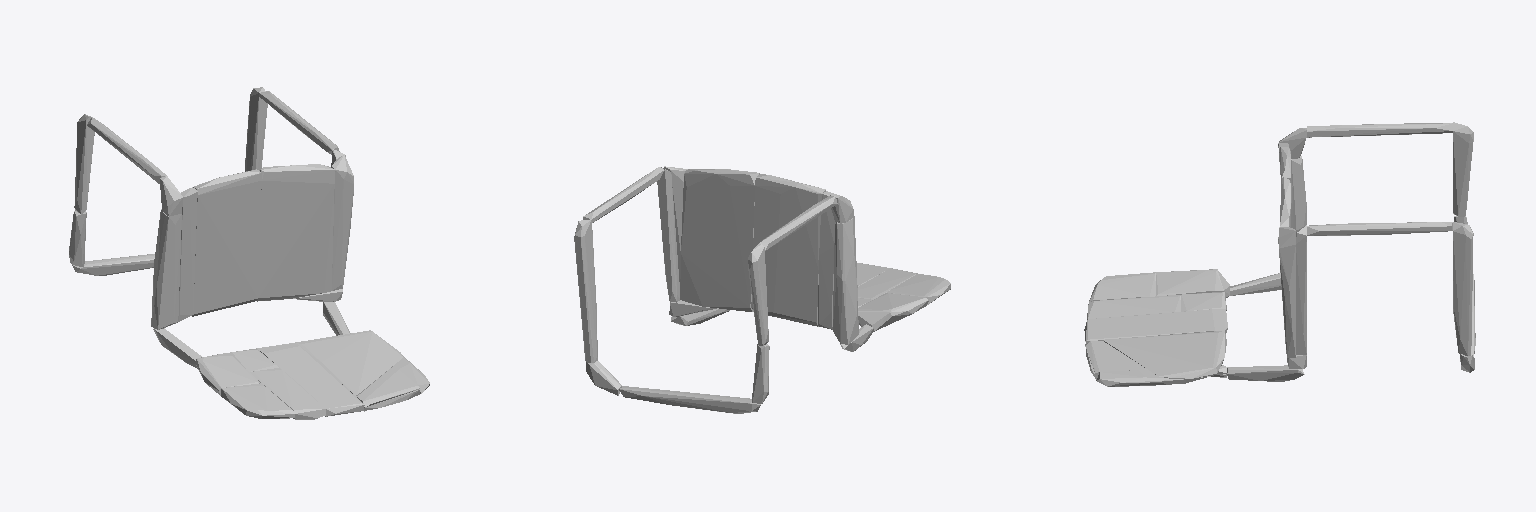
The picture shows the model from 3 angles: view 1: azimuth 30°, elevation 25°; view 2: azimuth 150°, elevation 25°; view 3: azimuth 270°, elevation 25°; orthographic projection.
Visible parts, largest first — view 1: convex_17, convex_16, convex_20, convex_6, convex_12, convex_19, convex_4, convex_21, convex_25, convex_15, convex_11, convex_14 (+9 smaller); view 2: convex_17, convex_16, convex_12, convex_14, convex_0, convex_4, convex_18, convex_15, convex_11, convex_21, convex_5, convex_3 (+4 smaller); view 3: convex_20, convex_6, convex_14, convex_19, convex_15, convex_3, convex_5, convex_25, convex_11, convex_21, convex_18, convex_27 (+6 smaller).
Part boxes in pixels (bbox=[...]): convex_17: bbox=[257, 164, 335, 301]; convex_16: bbox=[192, 169, 261, 316]; convex_20: bbox=[295, 330, 402, 395]; convex_6: bbox=[257, 343, 364, 416]; convex_12: bbox=[151, 209, 181, 329]; convex_19: bbox=[331, 155, 353, 290]; convex_4: bbox=[178, 187, 197, 321]; convex_21: bbox=[221, 383, 294, 418]; convex_25: bbox=[250, 368, 325, 419]; convex_15: bbox=[196, 353, 259, 395]; convex_11: bbox=[74, 114, 94, 214]; convex_14: bbox=[245, 87, 267, 171]; convex_17: bbox=[680, 169, 759, 311]; convex_16: bbox=[751, 174, 825, 326]; convex_12: bbox=[833, 217, 858, 344]; convex_14: bbox=[574, 219, 597, 362]; convex_0: bbox=[619, 386, 760, 413]; convex_4: bbox=[818, 191, 839, 329]; convex_18: bbox=[657, 167, 679, 302]; convex_15: bbox=[858, 293, 928, 331]; convex_11: bbox=[748, 243, 768, 345]; convex_21: bbox=[887, 274, 950, 304]; convex_5: bbox=[583, 167, 664, 222]; convex_3: bbox=[760, 196, 837, 250]; convex_20: bbox=[1104, 331, 1226, 378]; convex_6: bbox=[1084, 309, 1227, 343]; convex_14: bbox=[1453, 222, 1473, 355]; convex_19: bbox=[1278, 227, 1295, 357]; convex_15: bbox=[1156, 269, 1229, 296]; convex_3: bbox=[1307, 123, 1452, 137]; convex_5: bbox=[1307, 222, 1452, 235]; convex_25: bbox=[1086, 295, 1180, 322]; convex_11: bbox=[1453, 122, 1473, 216]; convex_21: bbox=[1089, 272, 1155, 301]; convex_18: bbox=[1296, 225, 1306, 354]; convex_27: bbox=[1085, 341, 1226, 373].
Size of the model in its own units: 0.4501 by 0.4115 by 0.7694.